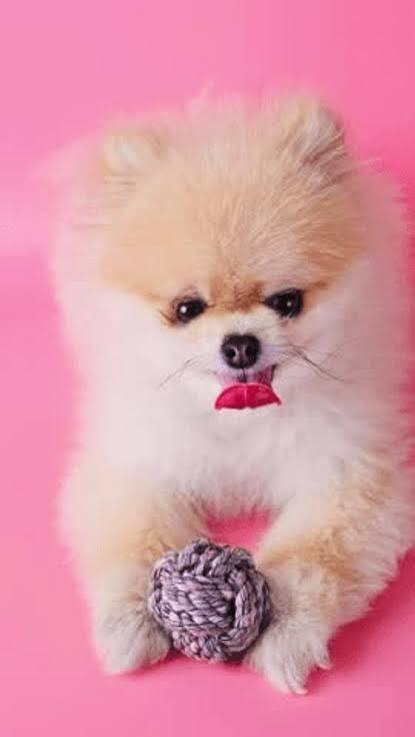puppy-dog: (37, 88, 415, 696)
